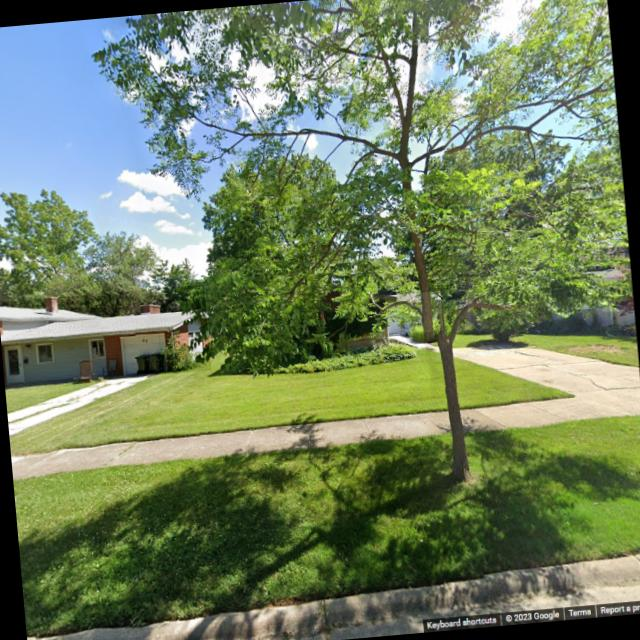House: (0, 284, 211, 387), (384, 291, 444, 336)
